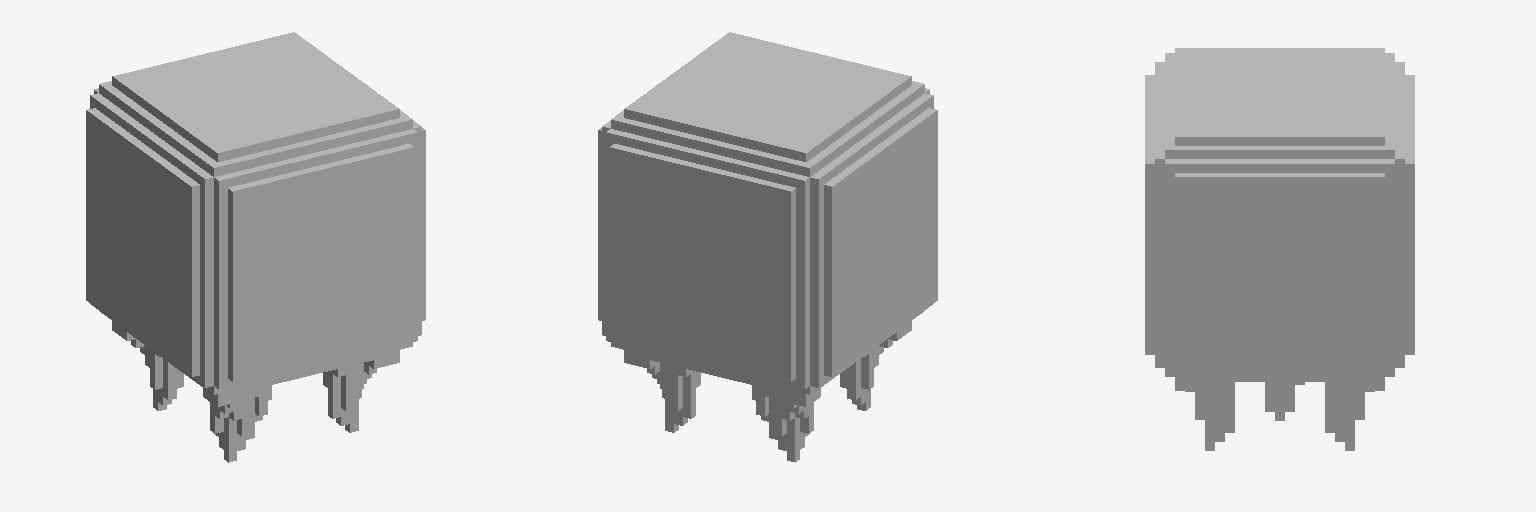
File: Alien.obj
3 views of the same model, side by side, from view 1: azimuth 30°, elevation 25°; view 2: azimuth 150°, elevation 25°; view 3: azimuth 270°, elevation 25° (orthographic).
Bounding box in the file's own units: 27 × 36 × 27.